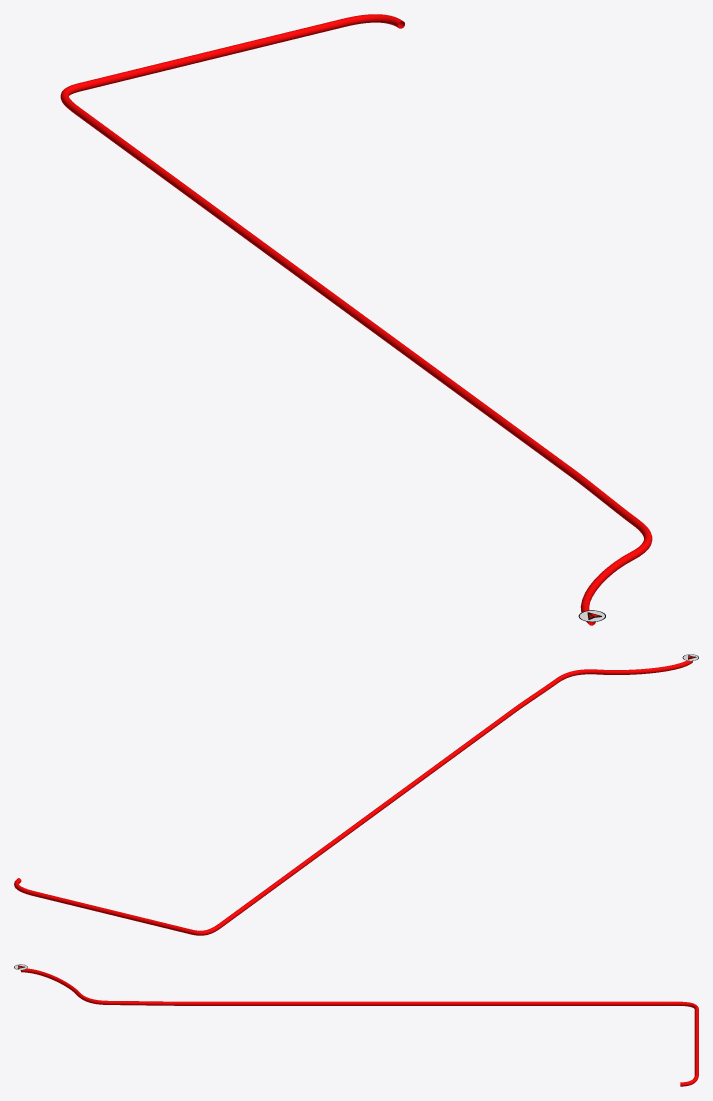
The model's file is route_139ca9c0-d965-4947-ade3-2bdbdf196e2b_de_single.glb.
3 renders of one model, top to bottom at view 1: azimuth 30°, elevation 25°; view 2: azimuth 150°, elevation 25°; view 3: azimuth 270°, elevation 25°, orthographic. The views are drawn at different scales.
Parts seen in each view (by area): view 1: B8, Abteil 4; view 2: B8, Abteil 4; view 3: B8, Abteil 4.
Part boxes in pixels (<box>): B8, Abteil 4: <box>60,14,652,625</box>; B8, Abteil 4: <box>14,660,692,935</box>; B8, Abteil 4: <box>21,968,698,1086</box>.
Size of the model in its own units: 5.27 by 0.1062 by 12.91.
